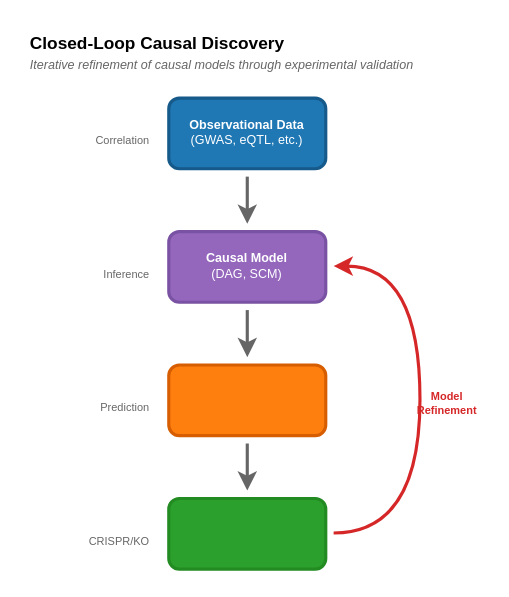
Some shapes in this 509 by 597 pixel diagram are drawn without their labels. Here are the shapes that lost their labels. From the top down, the centre of each, then its label:
At point 246,399: "Predicted Intervention Effect".
At point 246,533: "Experimental Validation".
